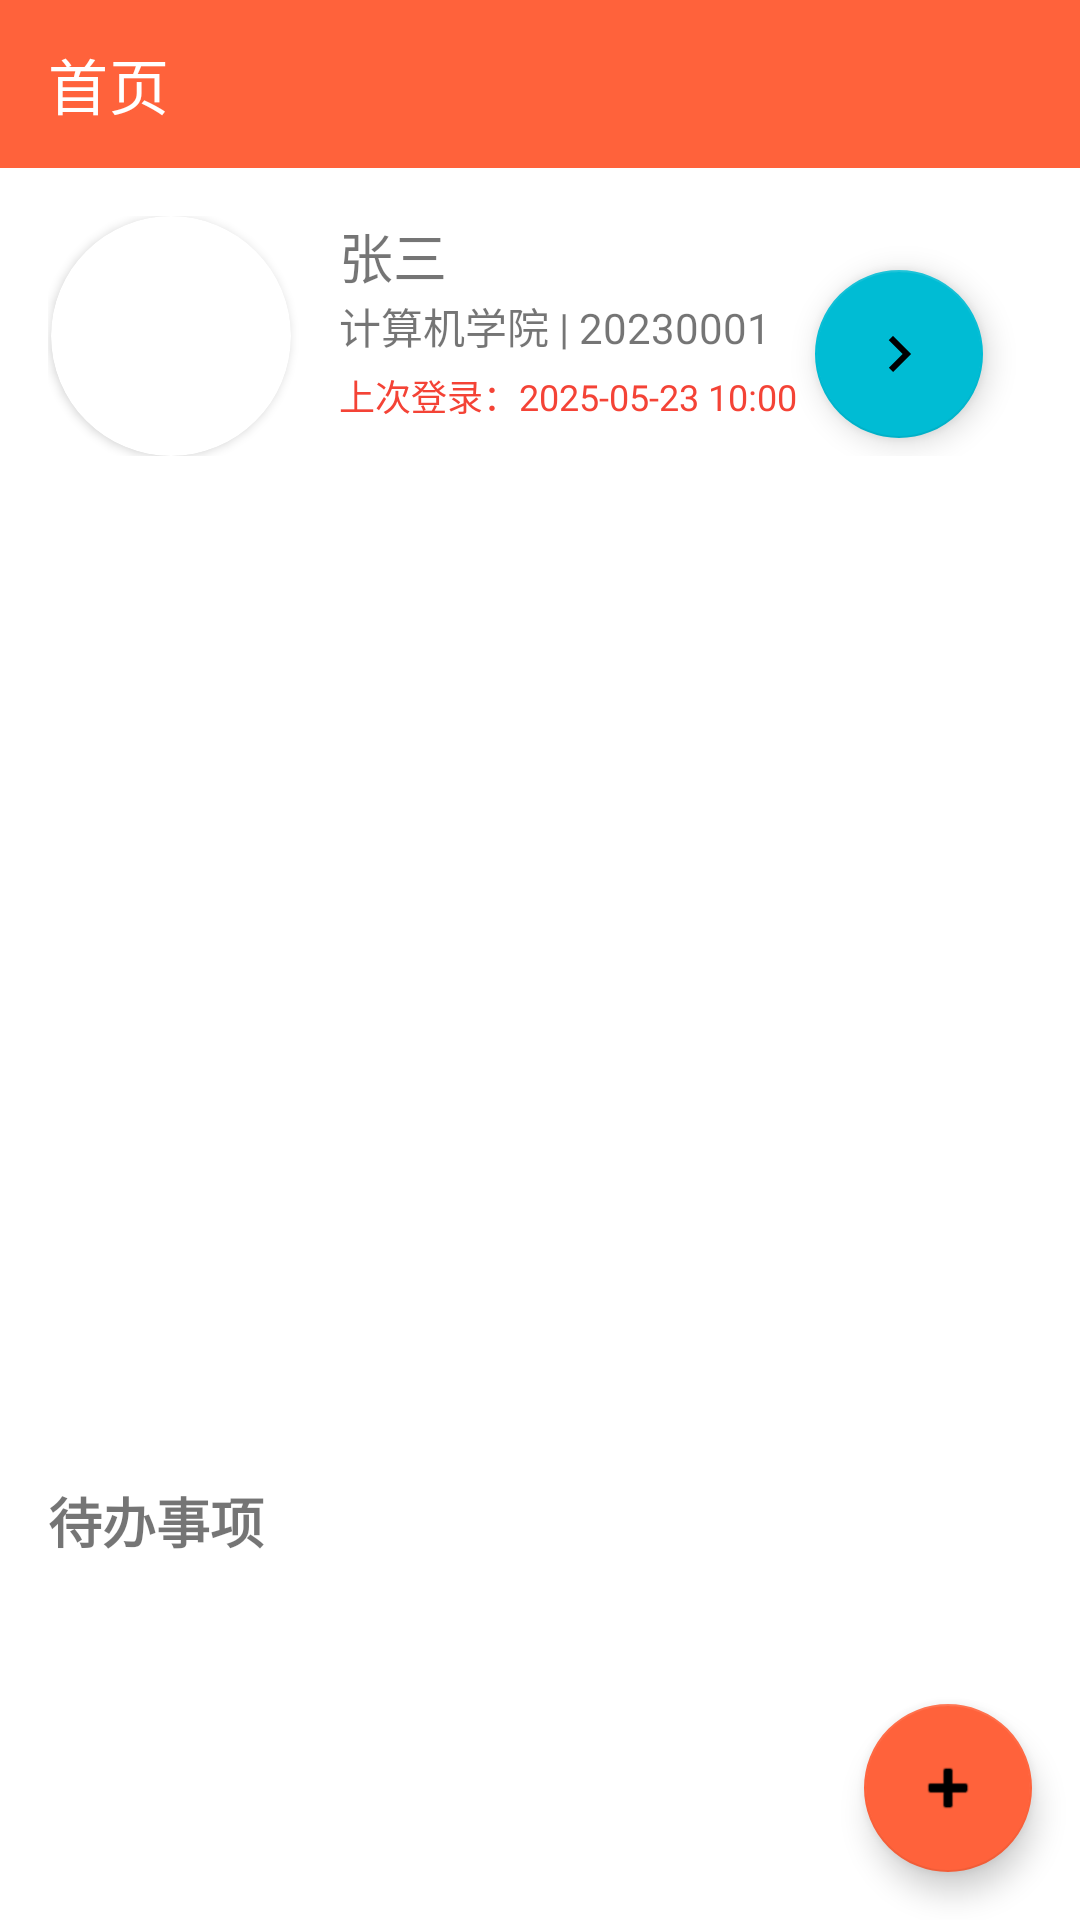

Named icons in this screenshot (1080*1920) and their centers, (x,y):
add: (948,1788)
keyboard arrow right: (899,354)
